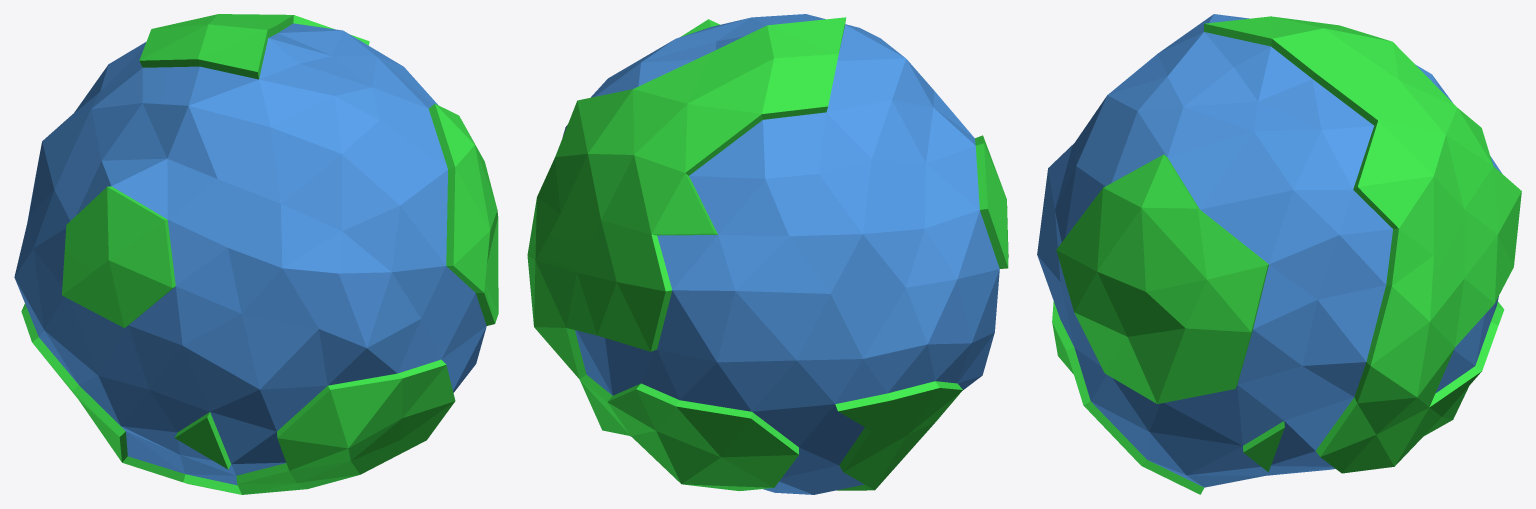
The model's file is earth.fbx.
3 renders of one model, left to right at view 1: azimuth 30°, elevation 25°; view 2: azimuth 150°, elevation 25°; view 3: azimuth 270°, elevation 25°, orthographic.
Parts seen in each view (by area): view 1: Earth; view 2: Earth; view 3: Earth.
Part boxes in pixels (x1,y1,x2,y2): Earth: (14, 14, 498, 494); Earth: (527, 14, 1008, 494); Earth: (1037, 14, 1521, 494).
Bounding box in the file's own units: 204 × 204 × 204.
